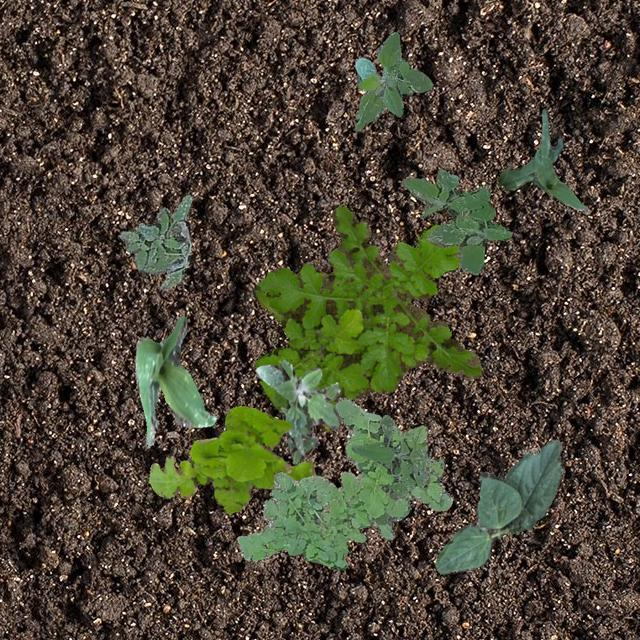crop: (434, 438, 562, 574), (134, 314, 215, 448), (496, 108, 586, 210), (354, 30, 432, 130)
weed: (252, 205, 480, 432), (236, 396, 452, 568), (147, 404, 316, 512), (400, 168, 510, 274), (254, 358, 340, 462), (118, 193, 192, 290), (351, 414, 428, 499)
